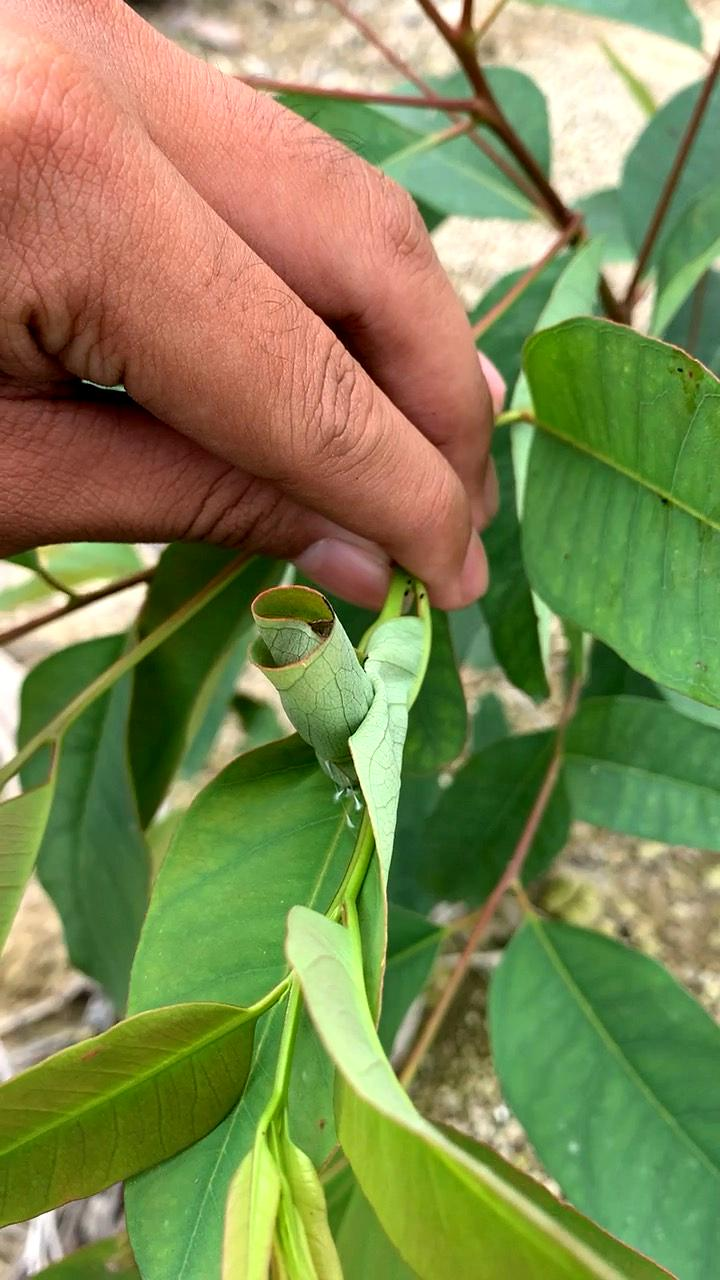Leaf Roller - Leaf: (226, 570, 399, 830)
